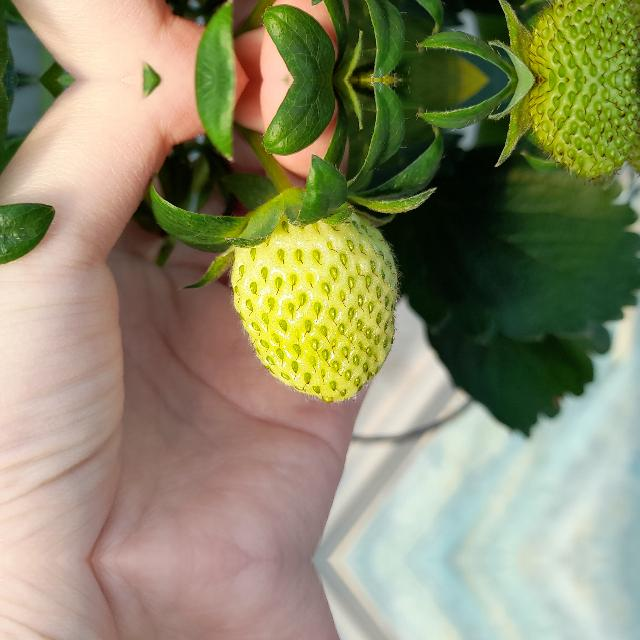Health_25: (228, 210, 402, 402), (532, 80, 640, 184), (532, 0, 639, 80)
